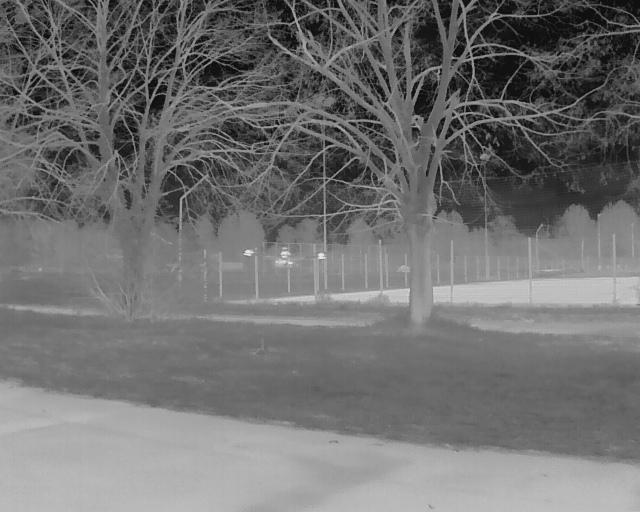drone: (237, 234, 328, 299)
